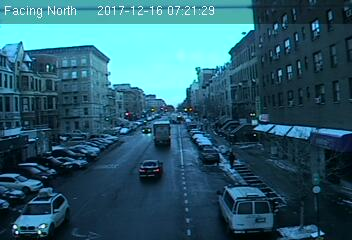car: (11, 186, 71, 240), (139, 159, 163, 179), (201, 148, 220, 161)
pedestrian: (226, 150, 236, 170)
police: (218, 182, 275, 235)
truck: (152, 121, 173, 147)
